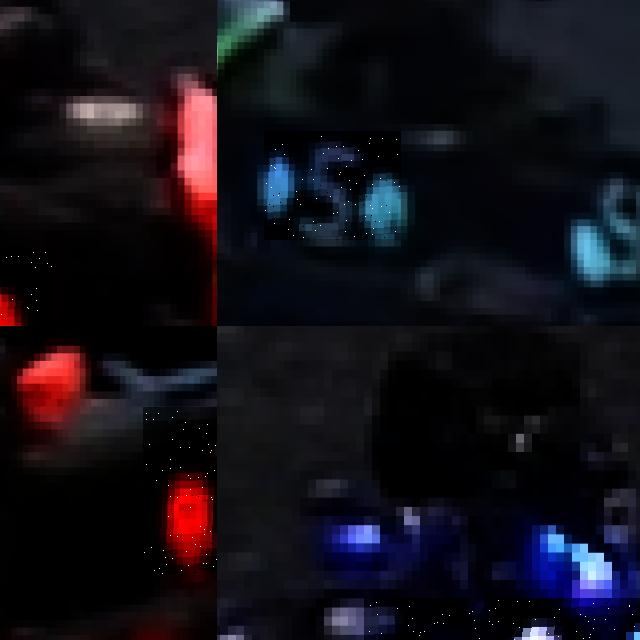B4: (364, 598, 640, 640)
B5: (264, 131, 401, 240), (557, 165, 640, 301)
R3: (143, 406, 217, 574)
